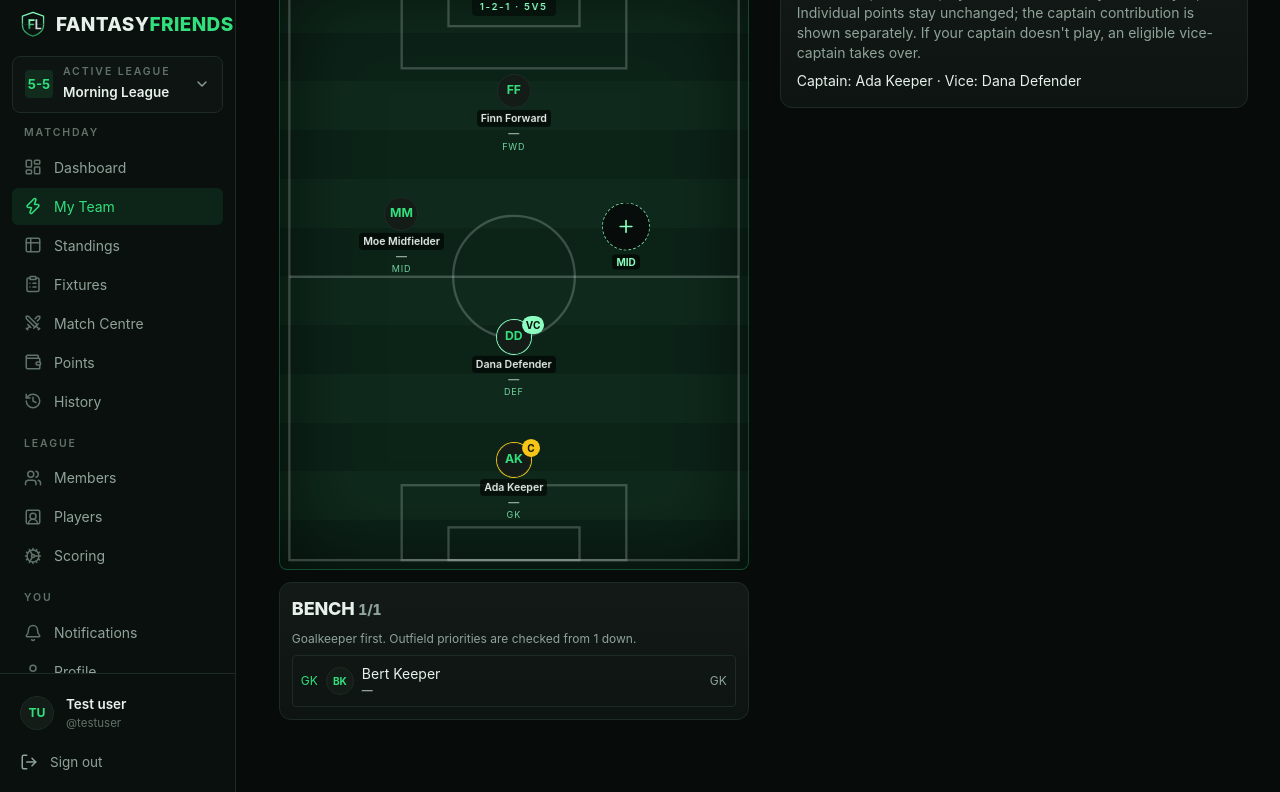
Test: squad screen HTTP contract › replaces GK with only eligible same-position players and persists in the same slot
The width and height of the screenshot is (1280, 792).
Earlier steps of the test are not shown.
Later steps or results of the test are not shown.
(page scrolled)
Click the button with aria-label "Ada Keeper, GK": click(514, 482) [294,442,734,521]
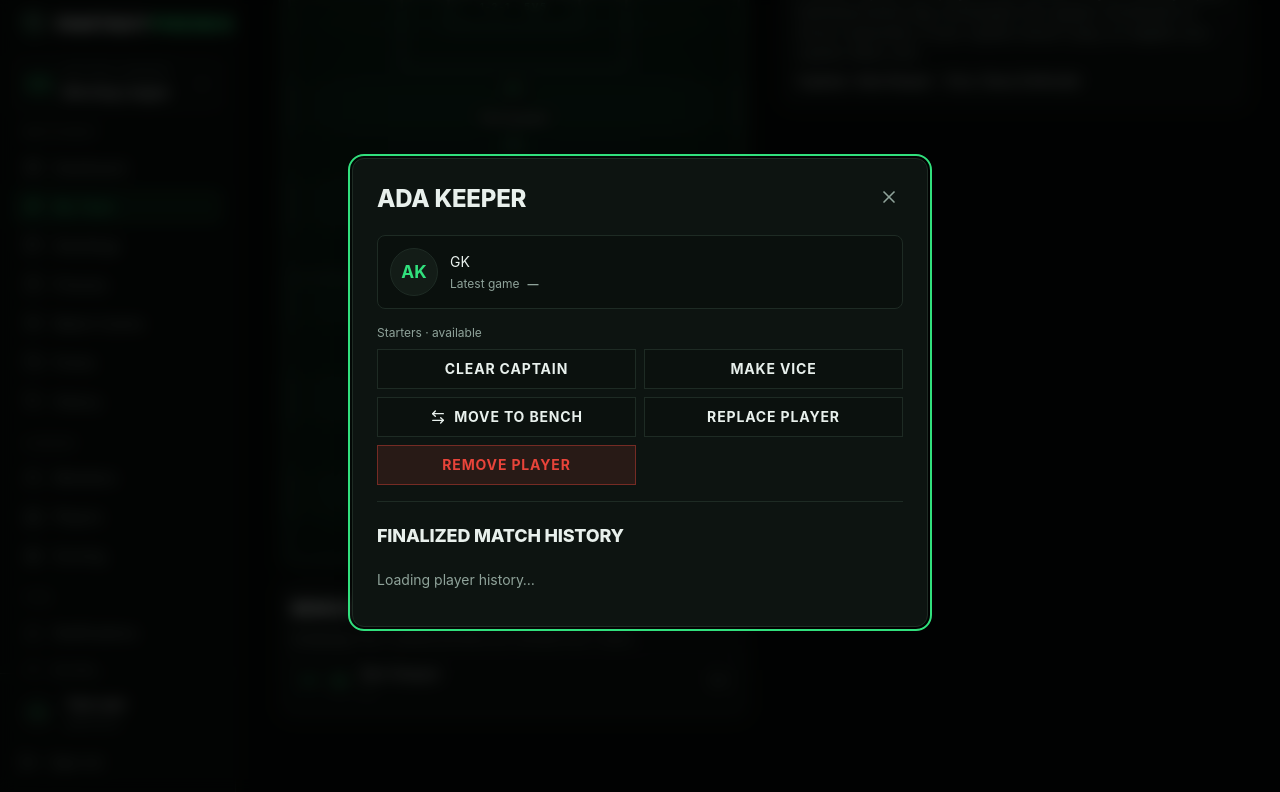
Click the button "Replace player": click(774, 416) [644,396,903,436]
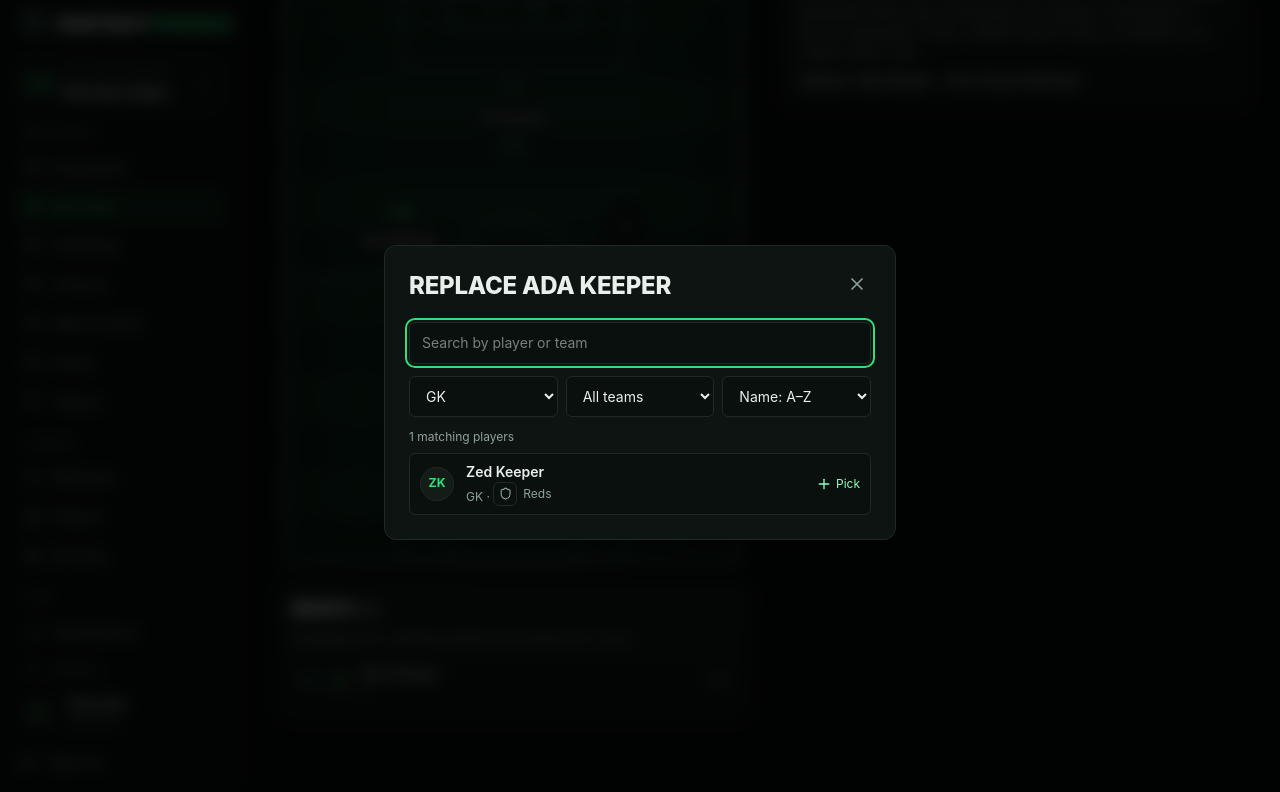
In the search field: (640, 342) [409,322,871,364], type "does-not-exist"
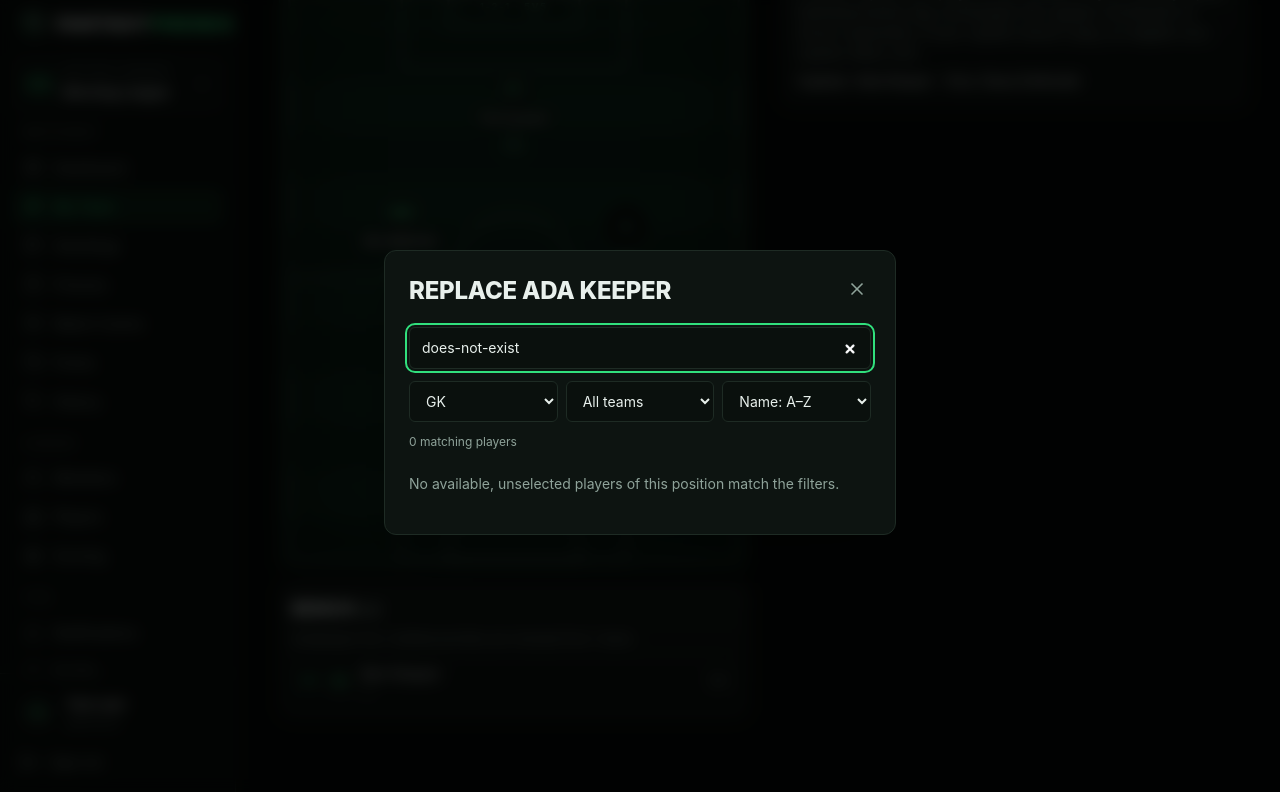
Expected: the text "No available, unselected players" is shown, [409,474,839,492]
Clear the search field: (640, 348) [409,326,871,368]
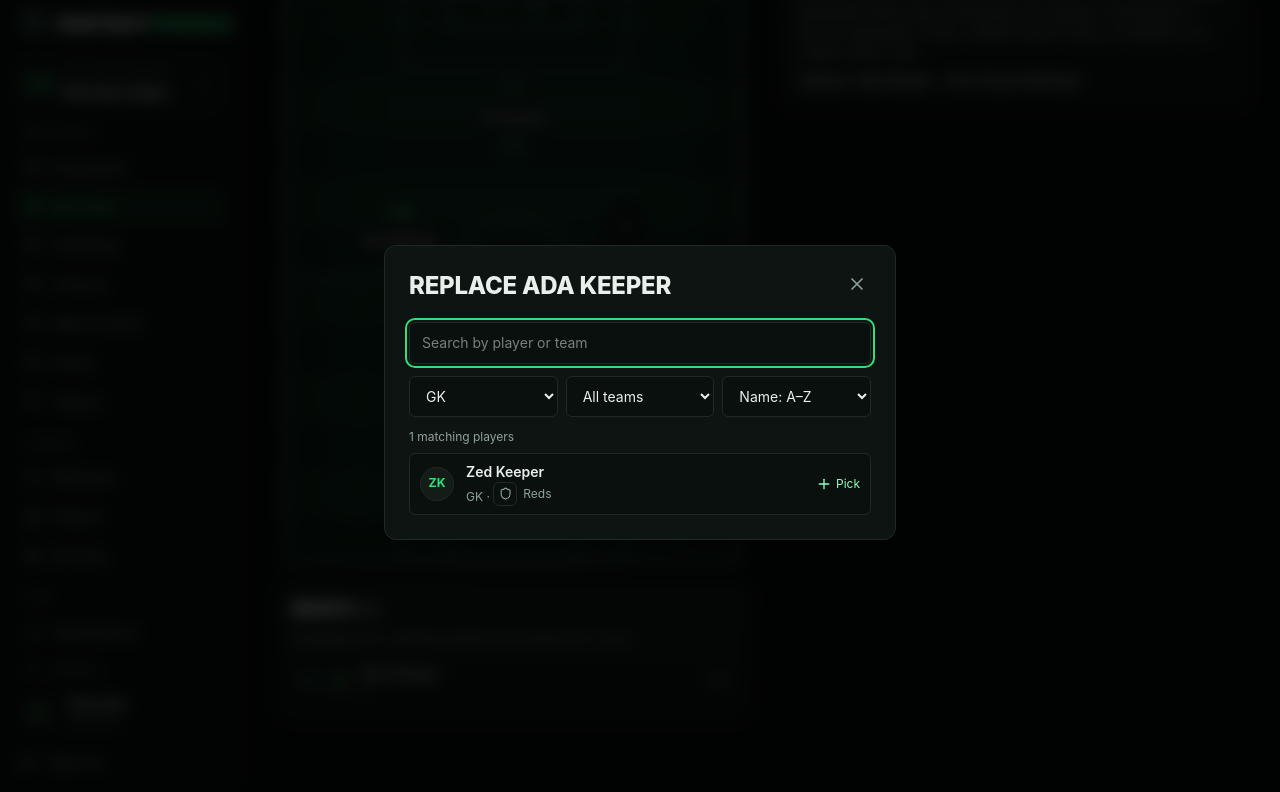
Expected: the button "Zed Keeper" shows "GK"
Click the button "Zed Keeper": click(437, 484) [409,452,871,514]
(page scrolled)
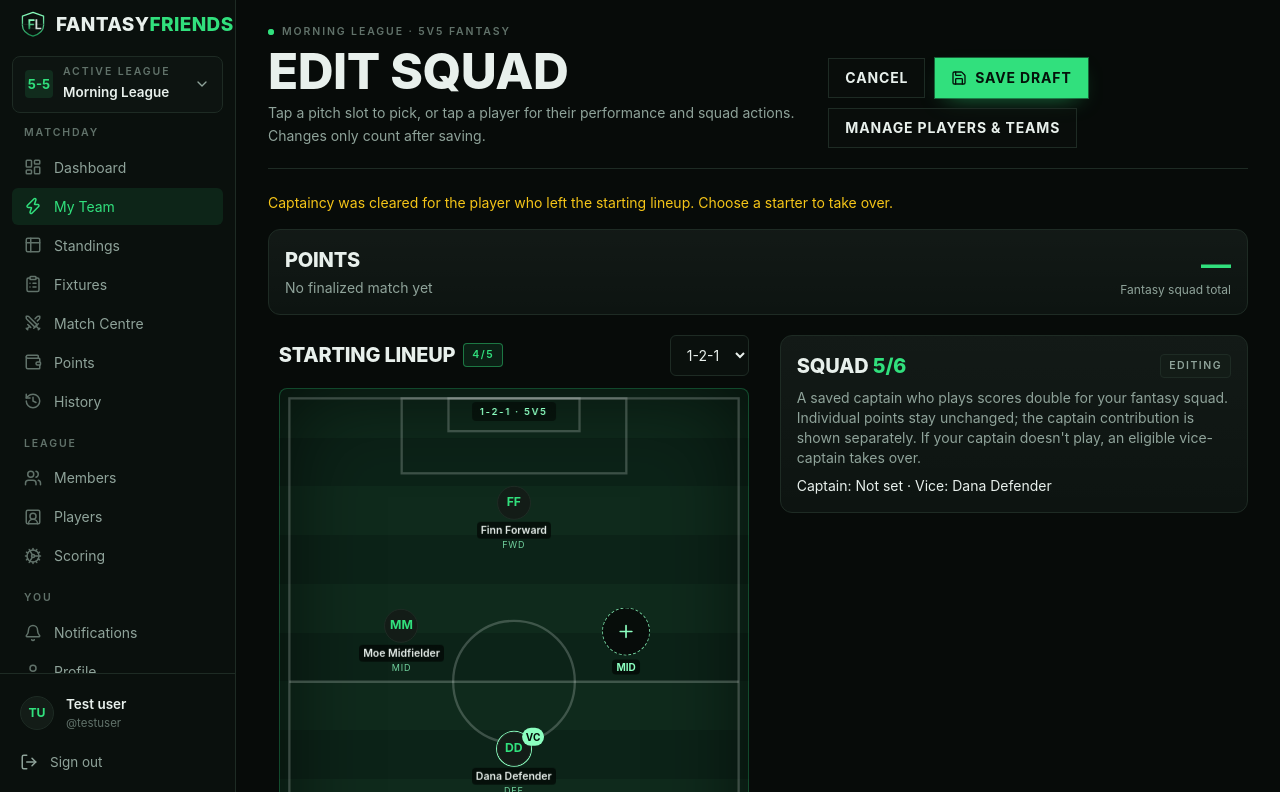
Expected: the dropdown named "Formation" shows "1-2-1", [670,335,749,376]
Click the button "Save draft": click(1011, 78) [935,58,1088,98]
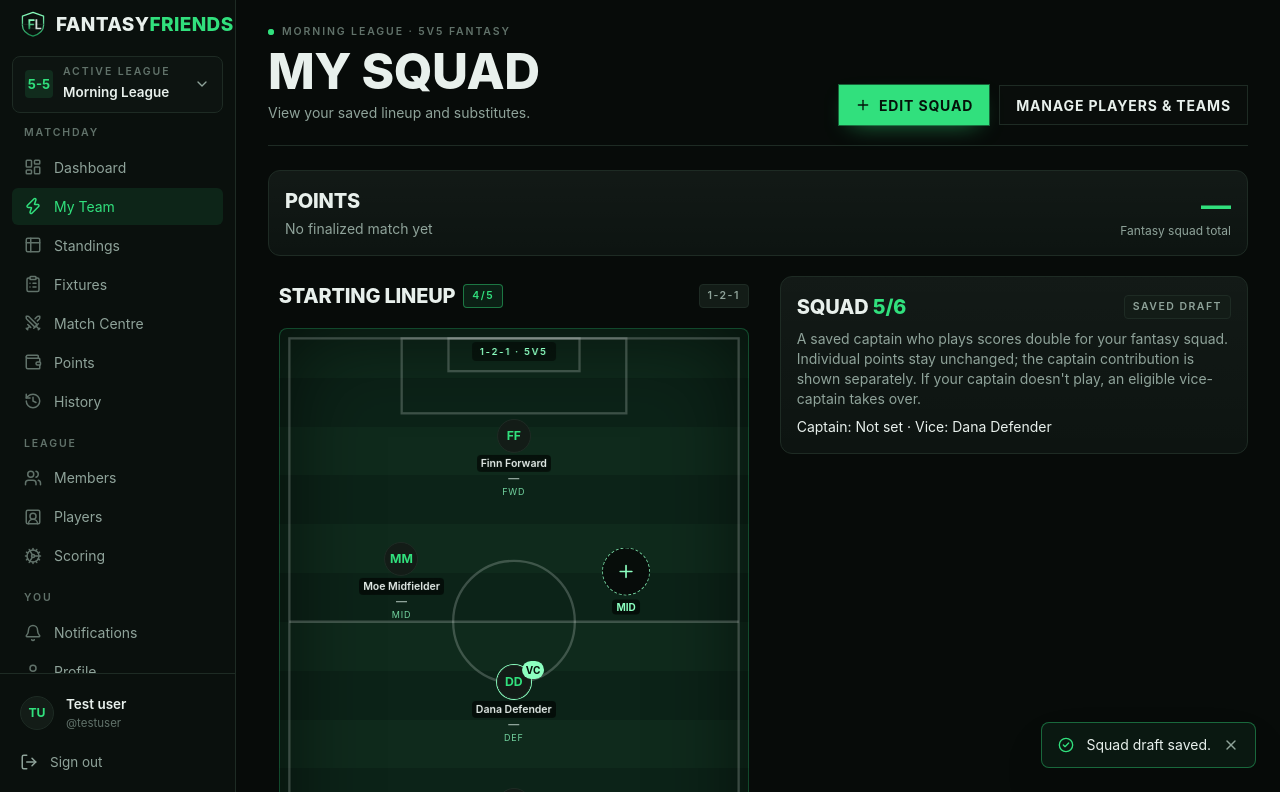
Expected: the text "Squad draft saved." is shown, [1086,735,1211,755]
